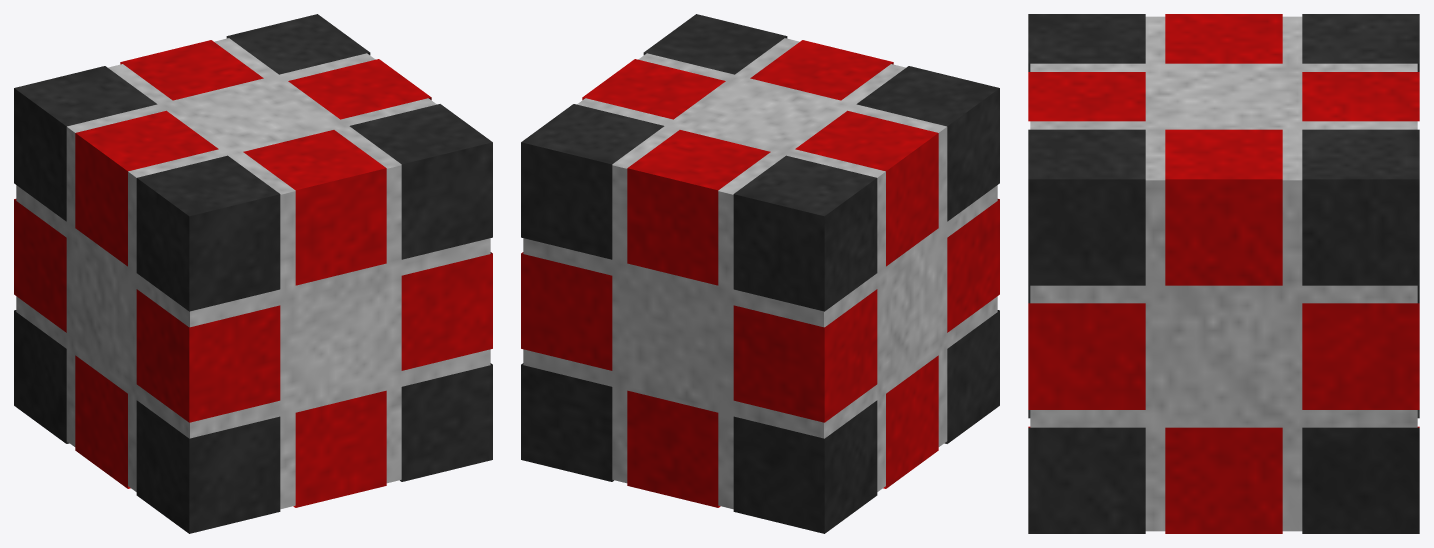
Rendered from puzzle_cube_paperlike.fbx.
3 renders of one model, left to right at view 1: azimuth 30°, elevation 25°; view 2: azimuth 150°, elevation 25°; view 3: azimuth 270°, elevation 25°, orthographic. The views are drawn at different scales.
Visible parts, largest first — view 1: Cube.029; view 2: Cube.029; view 3: Cube.029.
Boxes of the visible parts, bbox=[...] form: Cube.029: bbox=[14, 14, 492, 533]; Cube.029: bbox=[521, 14, 999, 533]; Cube.029: bbox=[1028, 14, 1419, 533].
Size of the model in its own units: 101 by 101 by 101.
